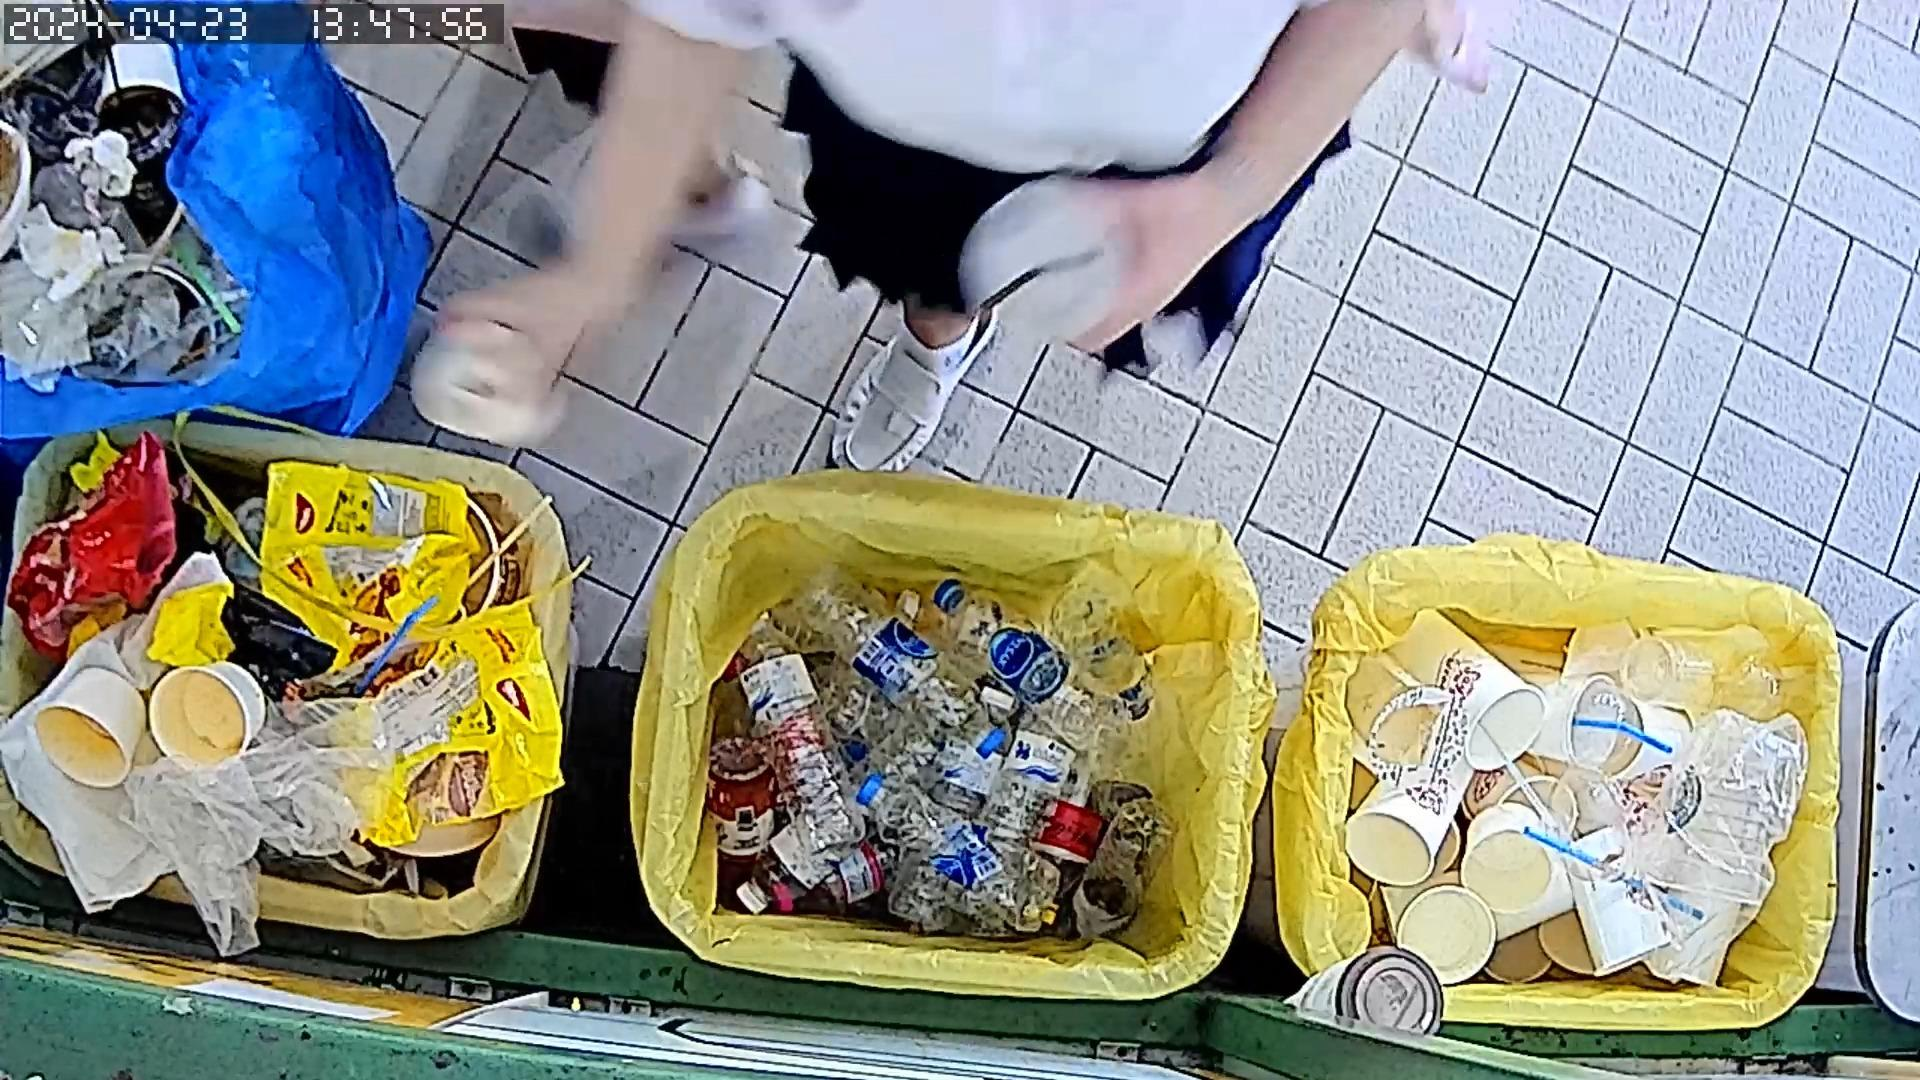can: (708, 732, 775, 860)
food container: (397, 307, 567, 460), (34, 662, 150, 790), (146, 658, 268, 775), (1390, 880, 1501, 984), (1460, 800, 1557, 916)
plastic bag: (117, 690, 415, 971), (0, 603, 236, 920)
plastic bottle: (774, 578, 1015, 774), (732, 728, 938, 916), (928, 574, 1138, 758), (732, 612, 868, 856), (855, 775, 1065, 932), (972, 684, 1088, 891), (1069, 794, 1180, 952), (1048, 582, 1162, 717)
plastic cup: (952, 162, 1139, 345), (1640, 713, 1800, 916), (1316, 636, 1474, 793), (1563, 822, 1673, 982), (1626, 618, 1784, 728)
snack packaging: (318, 593, 572, 855), (262, 458, 472, 687), (11, 430, 182, 640), (150, 553, 240, 670)
straw: (338, 585, 446, 704), (965, 232, 1105, 323), (1514, 822, 1665, 902), (1567, 694, 1683, 767)
zero waste cup: (1379, 600, 1548, 771), (1342, 744, 1474, 884), (1514, 669, 1630, 770)
